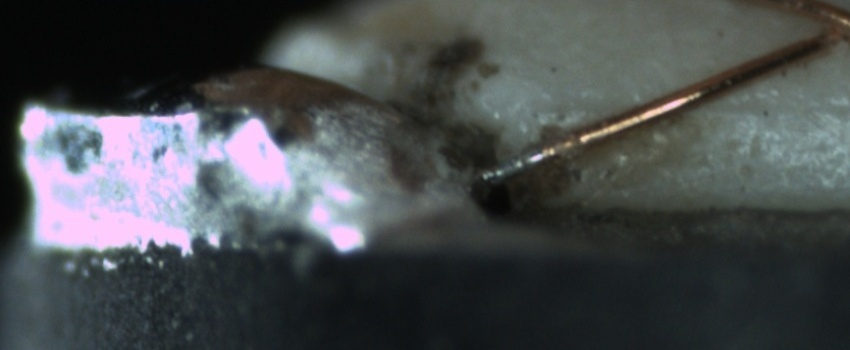CL: (795, 4, 850, 57)
DL: (689, 78, 848, 142)
TS: (474, 142, 551, 185)
